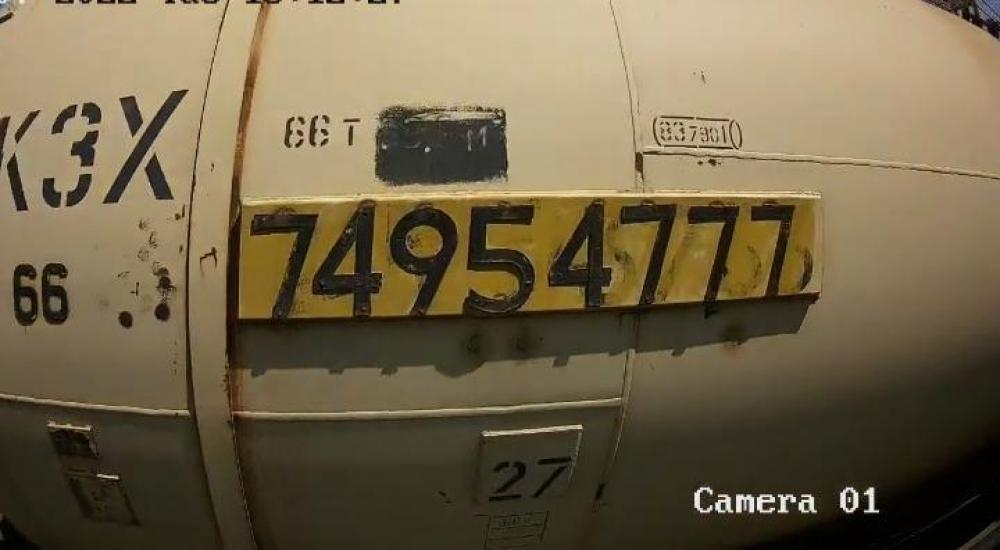Wagon-number: (244, 198, 804, 324)
